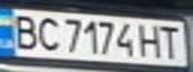1: (78, 17, 100, 55)
4: (115, 20, 139, 57)
7: (60, 16, 84, 54), (97, 18, 118, 55)
B: (9, 11, 42, 51)
C: (33, 14, 63, 52)
H: (136, 21, 163, 60)
T: (157, 22, 184, 60)
